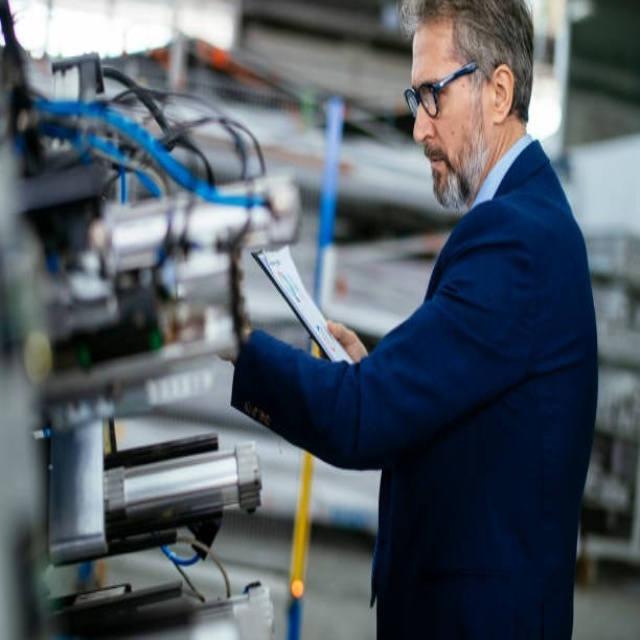Gafas: (403, 62, 481, 120)
Sin_mascara: (420, 141, 459, 195)
